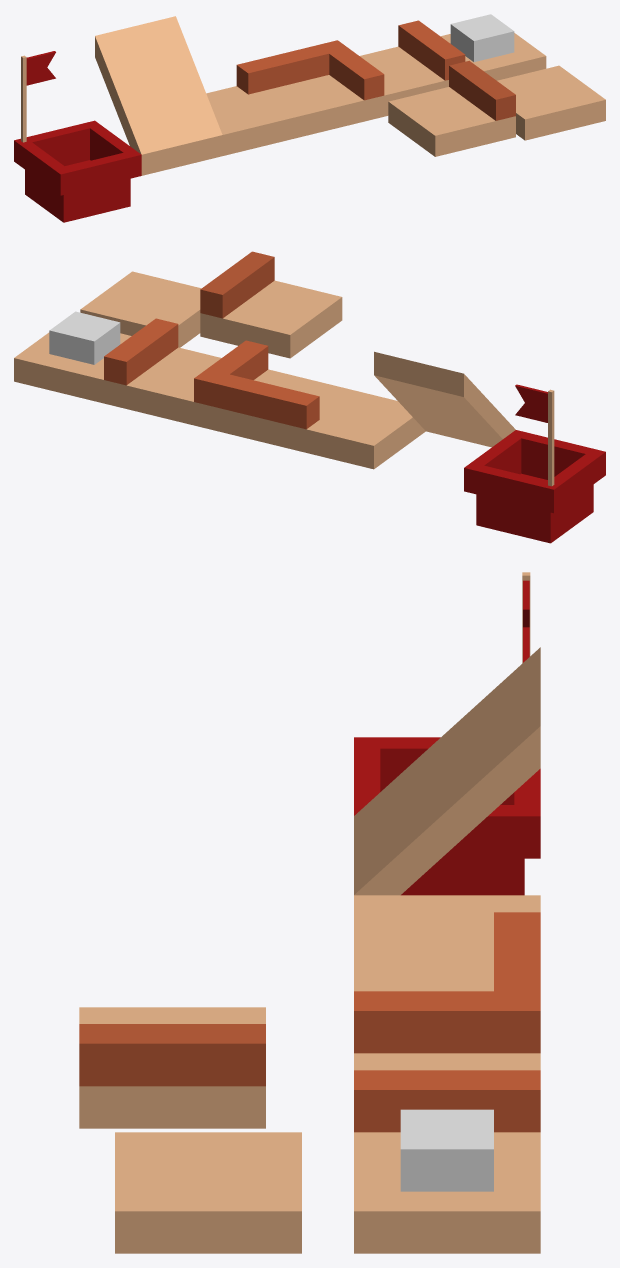
The picture shows the model from 3 angles, top to bottom: view 1: azimuth 30°, elevation 25°; view 2: azimuth 150°, elevation 25°; view 3: azimuth 270°, elevation 25°; orthographic projection. The views are drawn at different scales.
Visible parts, largest first — view 1: floor-ramp, target, floor-corner-borders, floor-border-colonly.001, floor-corner, floor.001, floor-border, Cube, floor; view 2: target, floor-border-colonly.001, floor-corner, floor-corner-borders, floor-border, floor-ramp, floor.001, floor, Cube; view 3: floor-border-colonly.001, floor.001, floor-ramp, floor, floor-corner-borders, floor-corner, floor-border, target, Cube.
Part boxes in pixels (x1,y1,x2,y2): floor-ramp: (95,16,222,175); target: (14,51,141,222); floor-corner-borders: (257,40,384,136); floor-border-colonly.001: (388,60,515,156); floor-corner: (206,60,303,155); floor.001: (497,65,605,140); floor-border: (360,20,465,116); Cube: (450,14,514,62); floor: (441,33,546,80); target: (464,384,605,543); floor-border-colonly.001: (200,251,342,358); floor-corner: (284,386,425,469); floor-corner-borders: (194,340,335,447); floor-border: (104,318,221,425); floor-ramp: (374,351,515,447); floor.001: (80,271,201,347); floor: (14,332,131,403); Cube: (49,311,120,364); floor-border-colonly.001: (79,1007,265,1128); floor.001: (115,1132,301,1253); floor-ramp: (354,647,540,895); floor: (354,1132,540,1253); floor-corner-borders: (354,932,540,1053); floor-corner: (354,895,540,974); floor-border: (354,1053,540,1132); target: (354,572,540,895); Cube: (400,1109,493,1191).
Size of what is drawn, in the model's own units: 24 by 6.5 by 9.88.
Materials: 4 (3 with a texture image).
